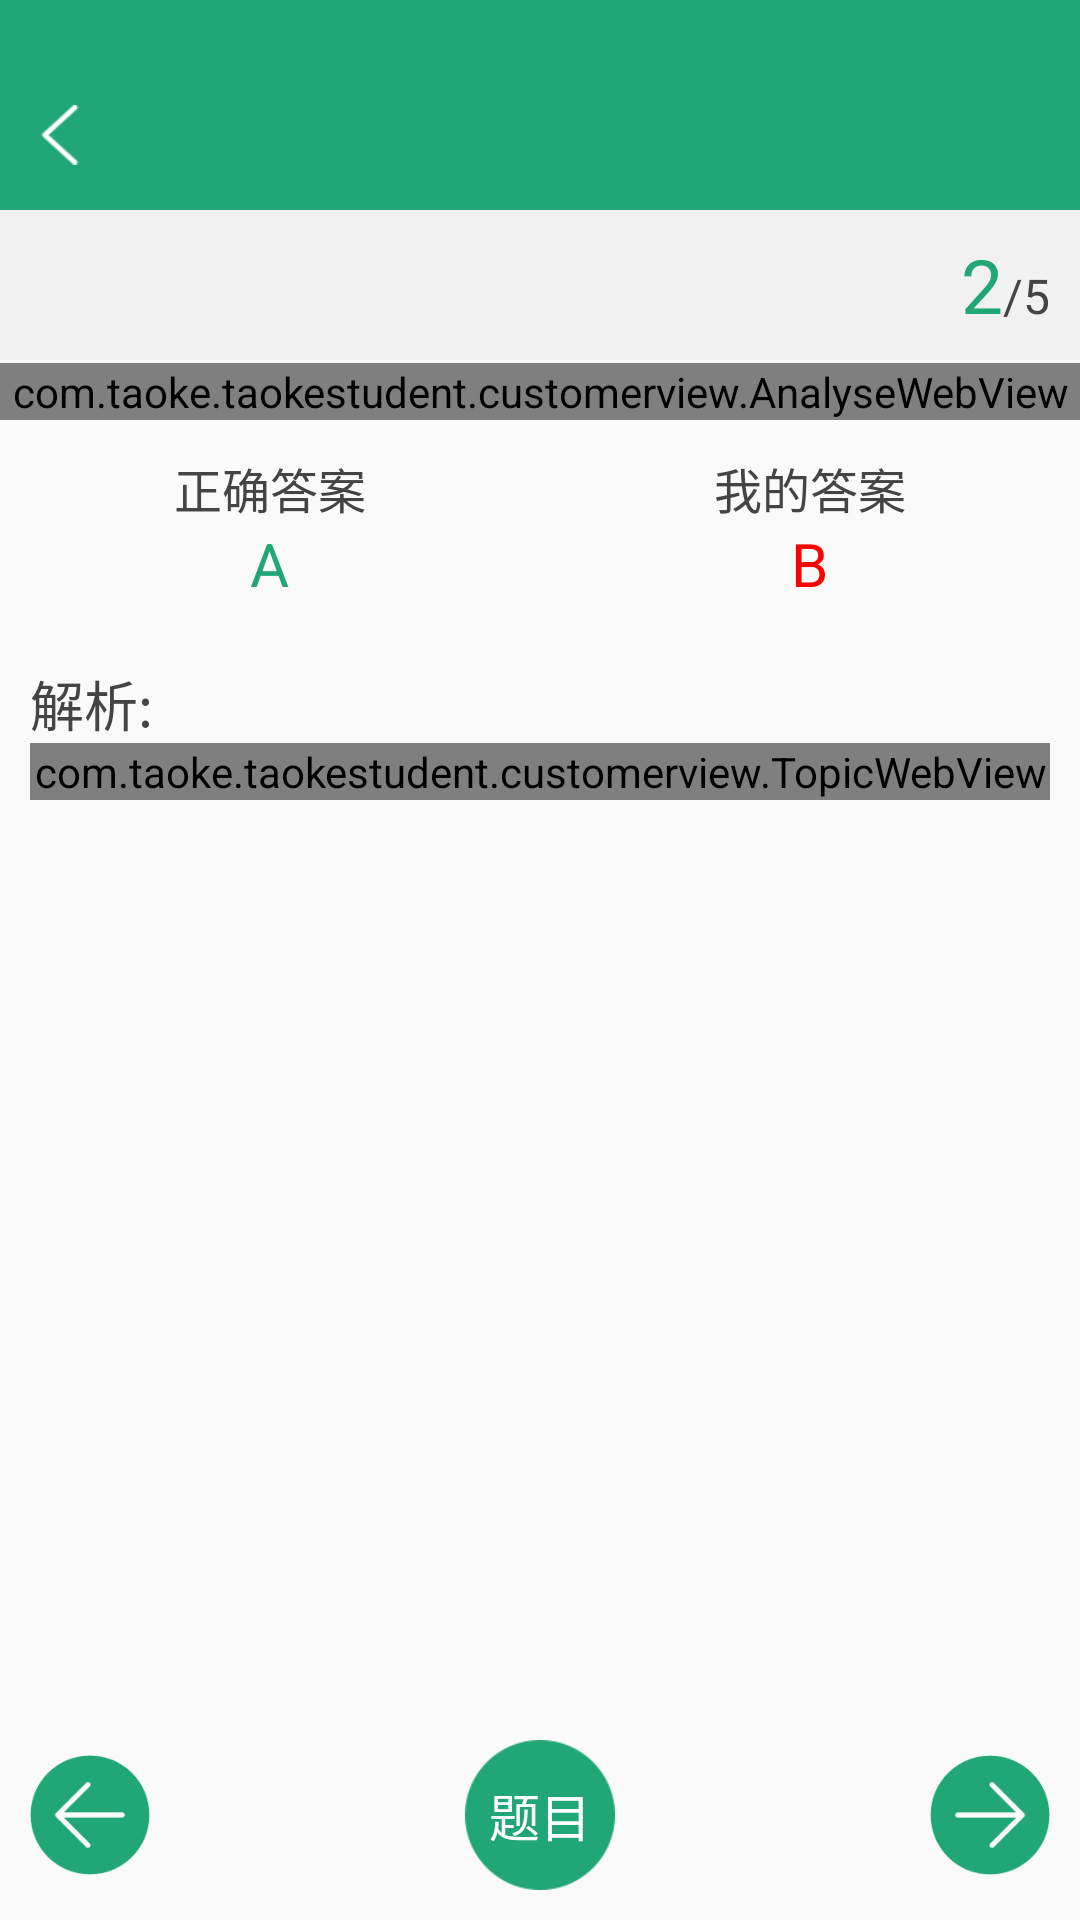

Locate icon controls on the screen. Image size 1080px×1920px, boxes as (x1, y1, x2, y2).
arrow left: (41, 105, 79, 165)
next question: (930, 1755, 1050, 1875)
pre question: (30, 1755, 150, 1875)
